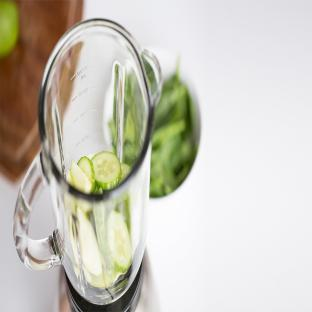Cucumber: (77, 207, 101, 275), (107, 211, 132, 273), (92, 152, 121, 189), (71, 160, 92, 193), (78, 157, 94, 192), (69, 215, 78, 265), (121, 163, 130, 181), (67, 169, 75, 187)
